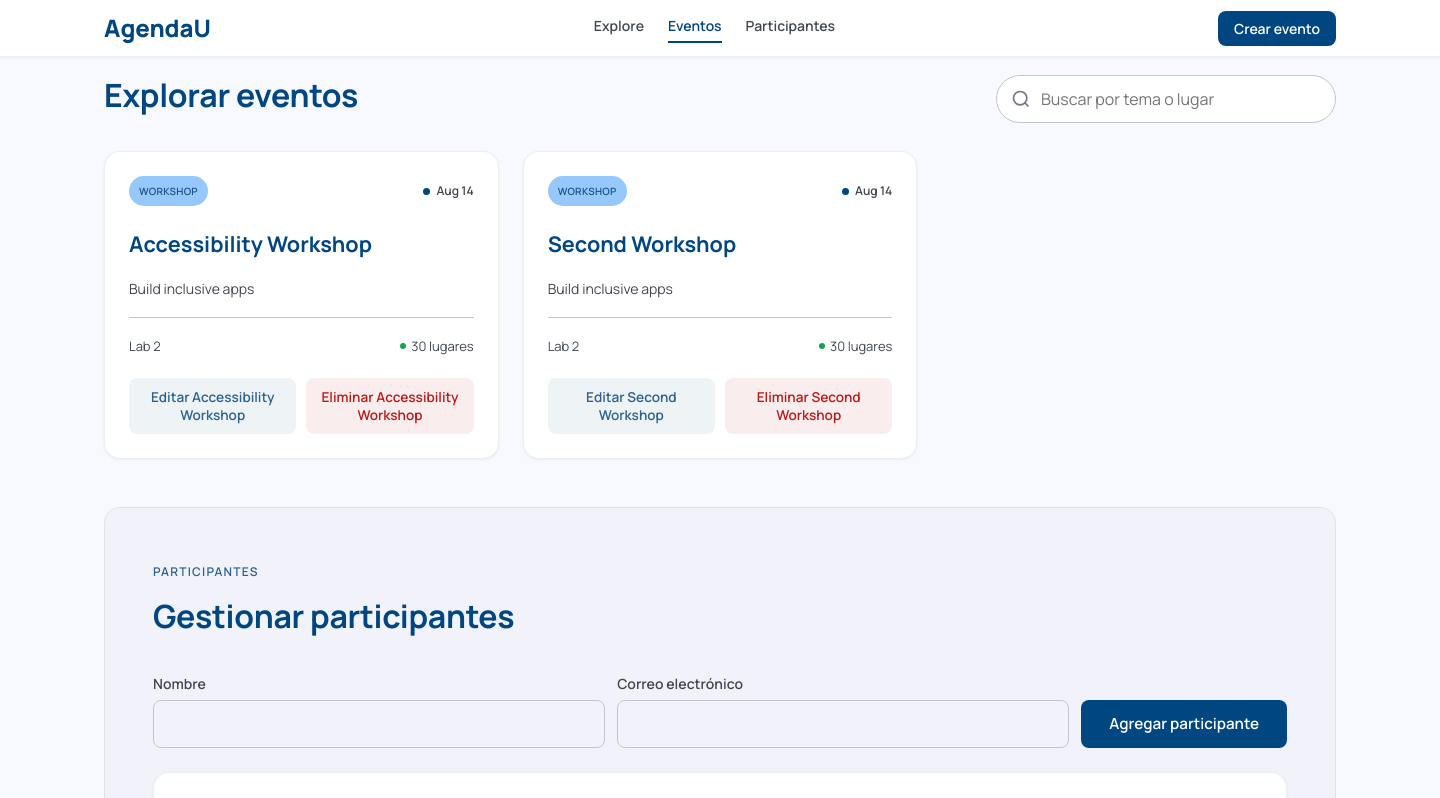
Test: App › locks controls during save so another edit cannot replace the active selection
(page scrolled)
Click the button "Editar Accessibility Workshop" at (213, 406), box [129,378,296,434]
(page scrolled)
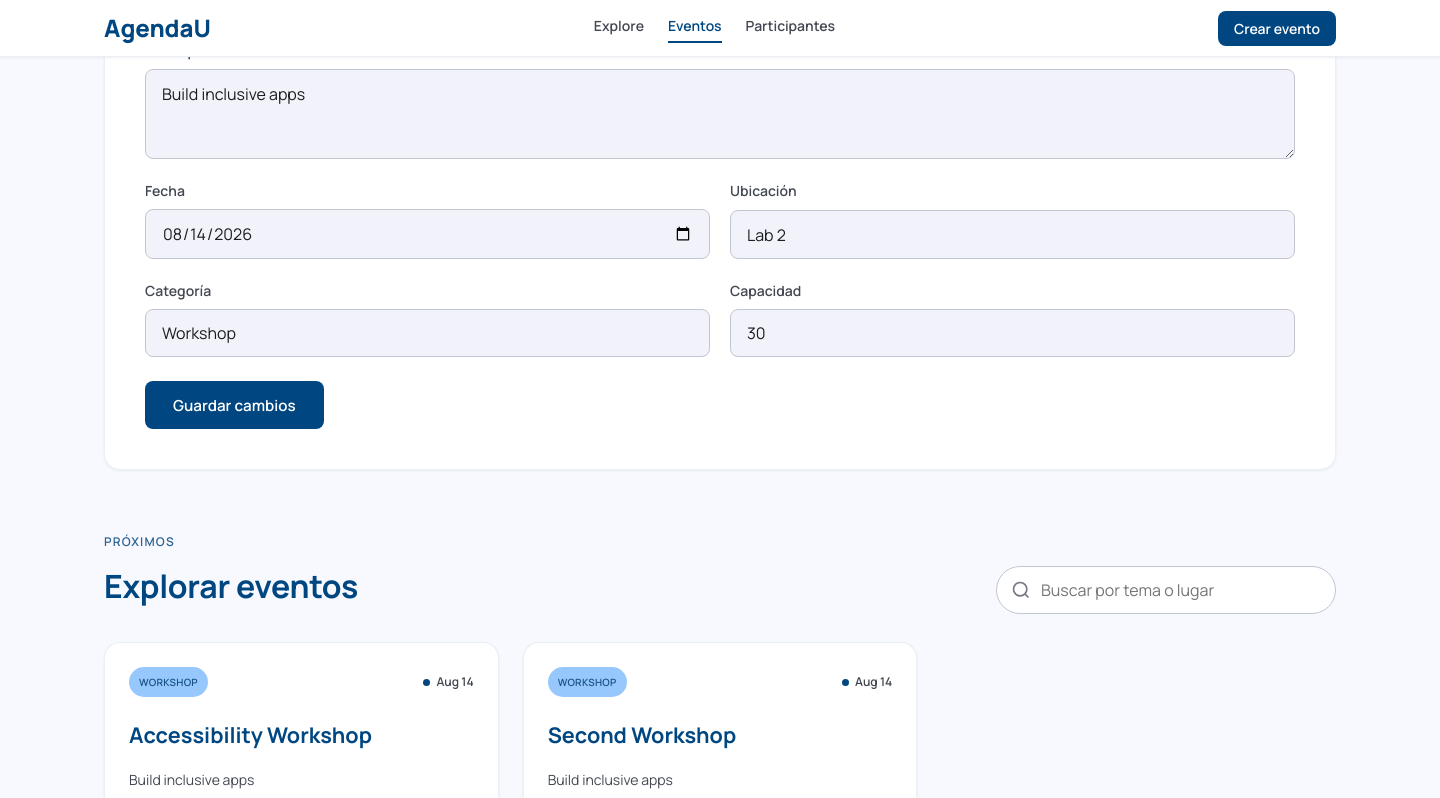
Click the button "Guardar cambios" at (234, 405), box [145,381,324,429]
(page scrolled)
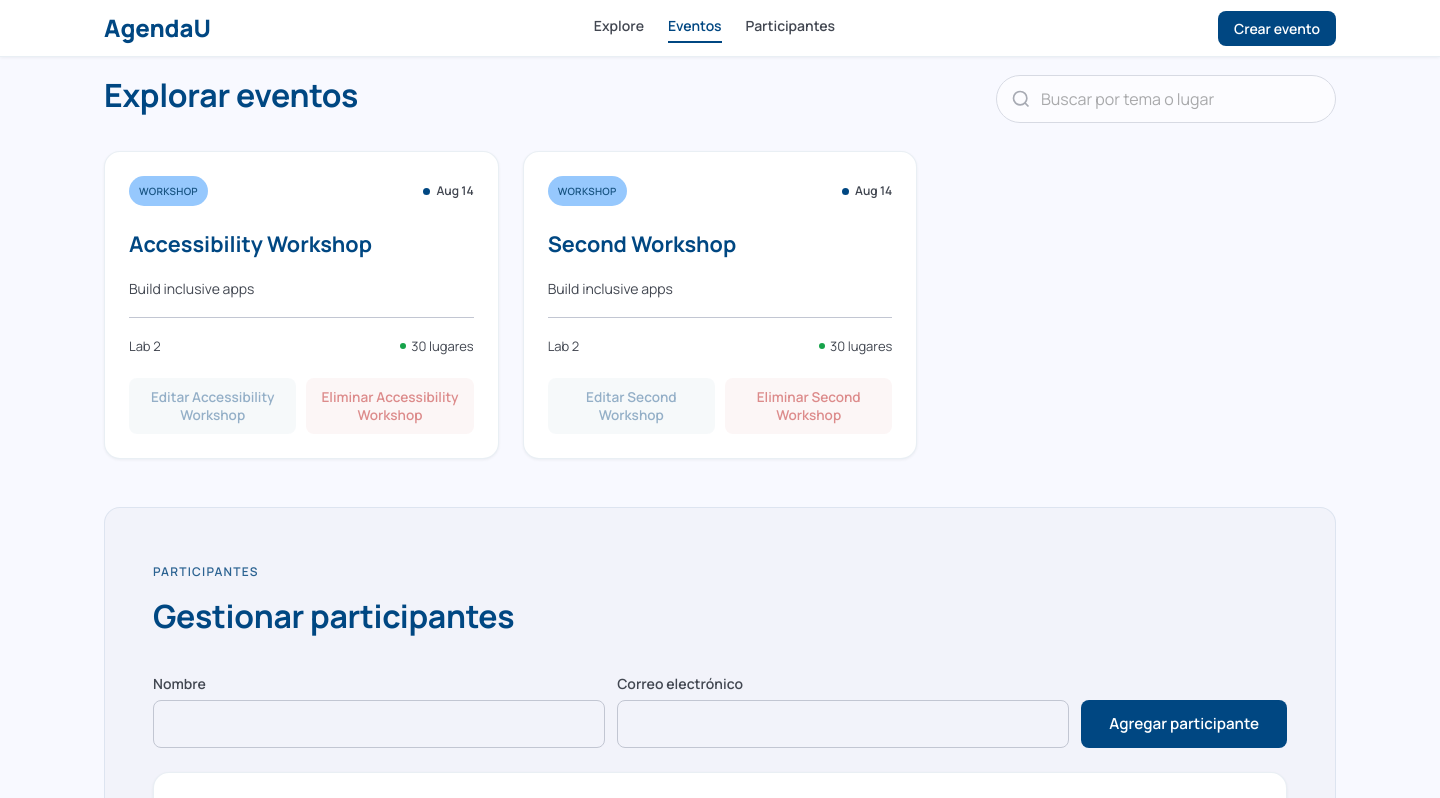
Click the button "Editar Second Workshop" at (631, 406), box [548,378,715,434]
(page scrolled)
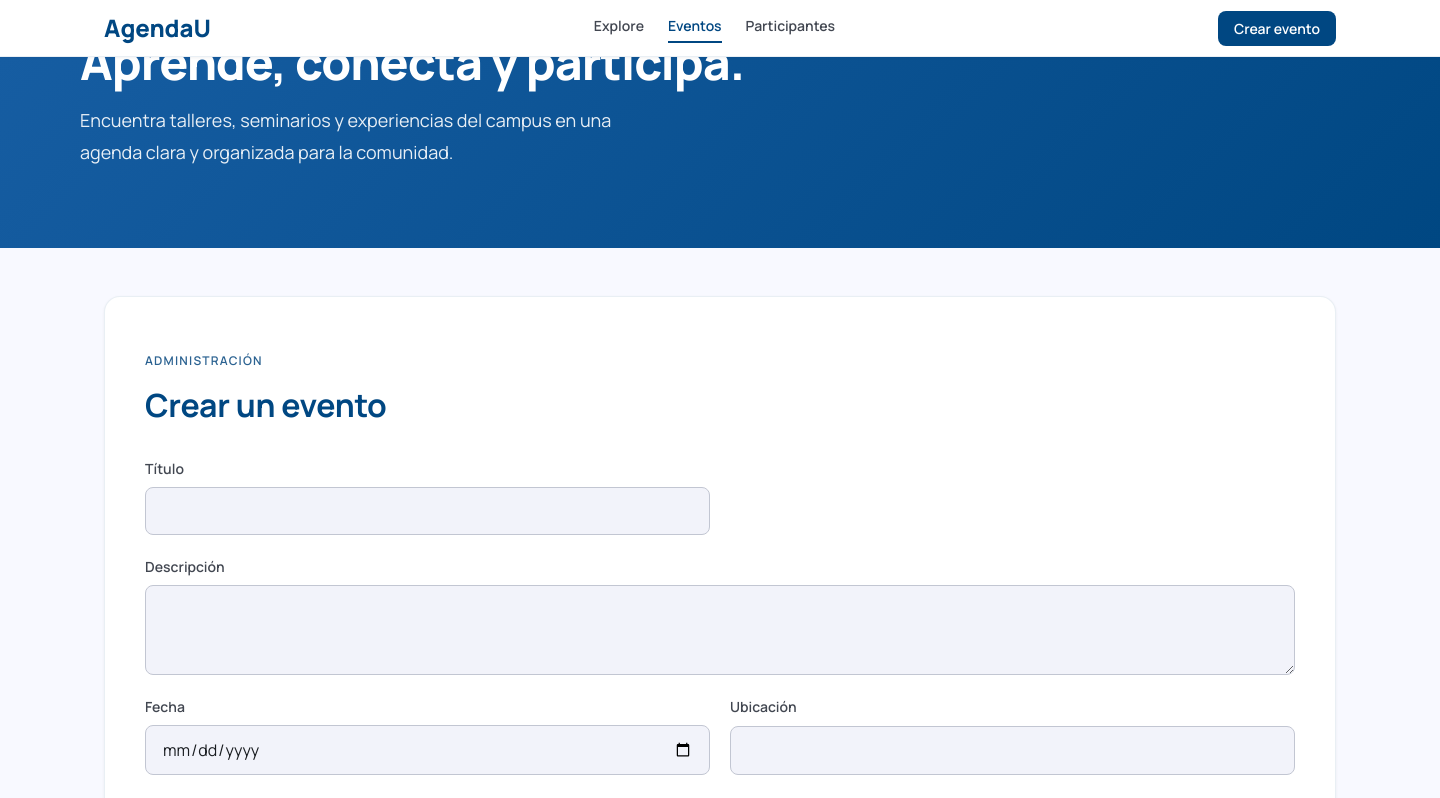
expect the heading "Crear un evento" is shown: met, box [145,385,386,425]
